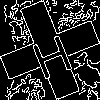H: (25, 25, 76, 81)
